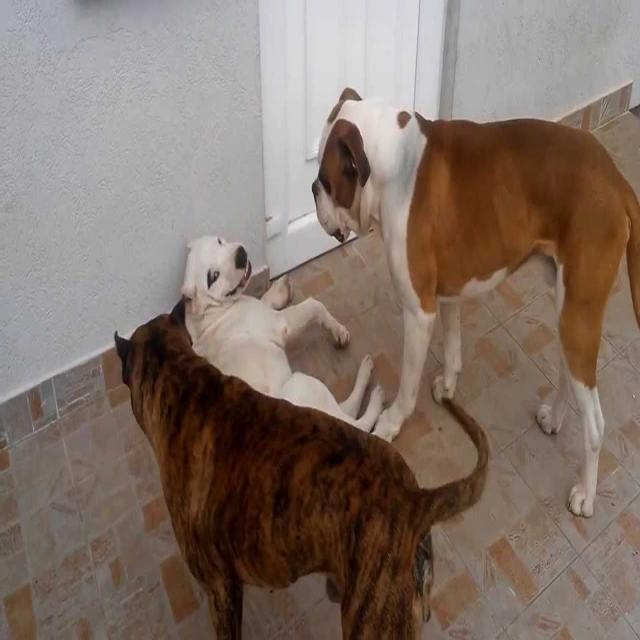dog: (64, 182, 278, 528), (296, 66, 424, 279)
